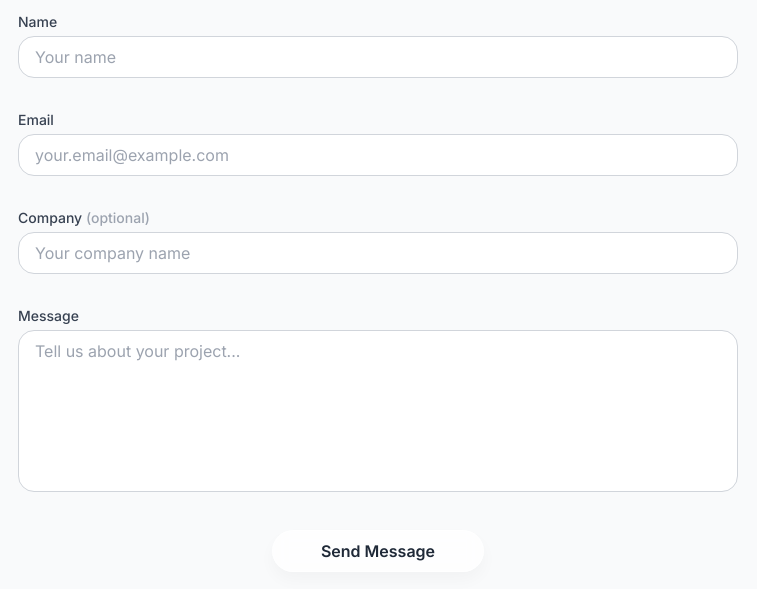
it: User Journey Tests › 7. Form Loading States › should show loading state during submission
In the field labelled "Name": (378, 57) left=18, top=36, right=738, bottom=78, type "John Doe"
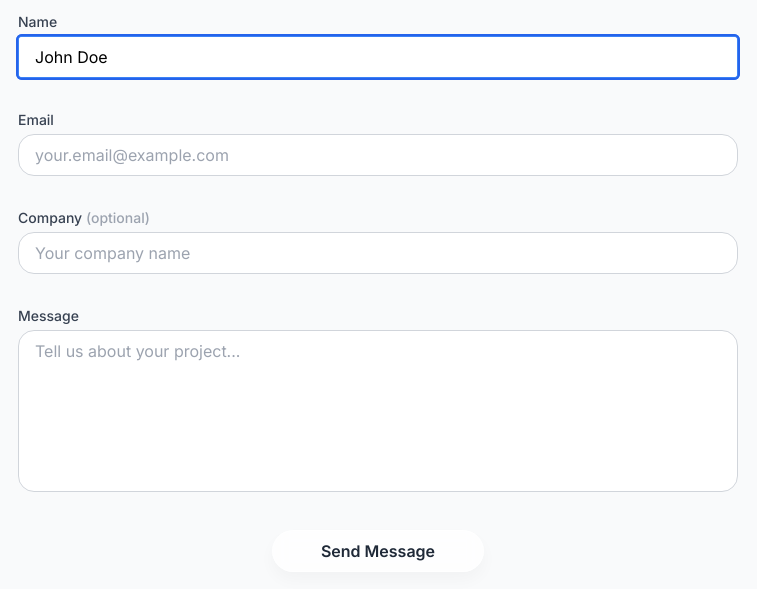
In the field labelled "Email": (378, 155) left=18, top=134, right=738, bottom=176, type "john@example.com"
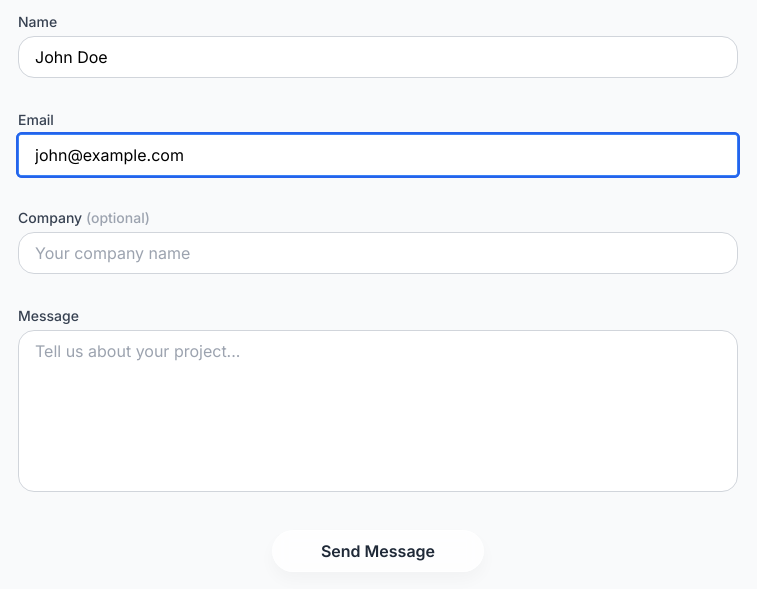
In the text box labelled "Message": (378, 411) left=18, top=330, right=738, bottom=492, type "This is a valid test message"
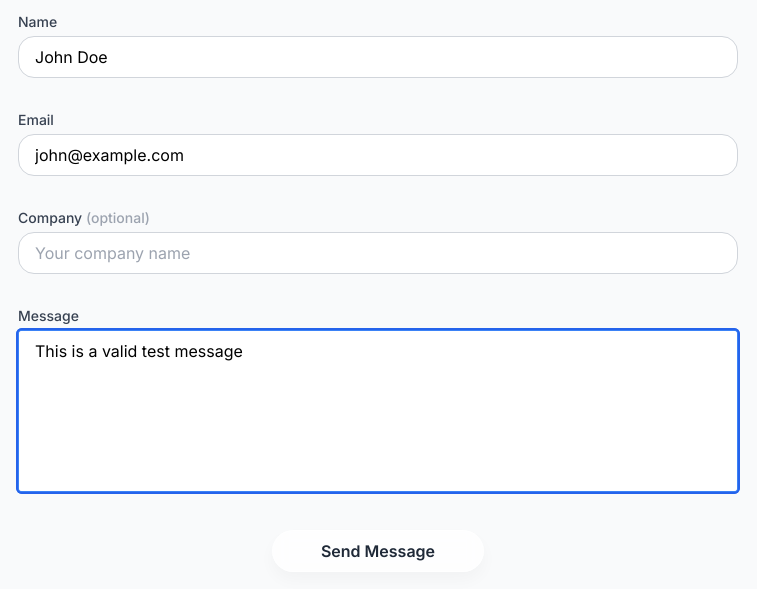
Click the button "Send Message": (378, 551) left=272, top=530, right=484, bottom=572
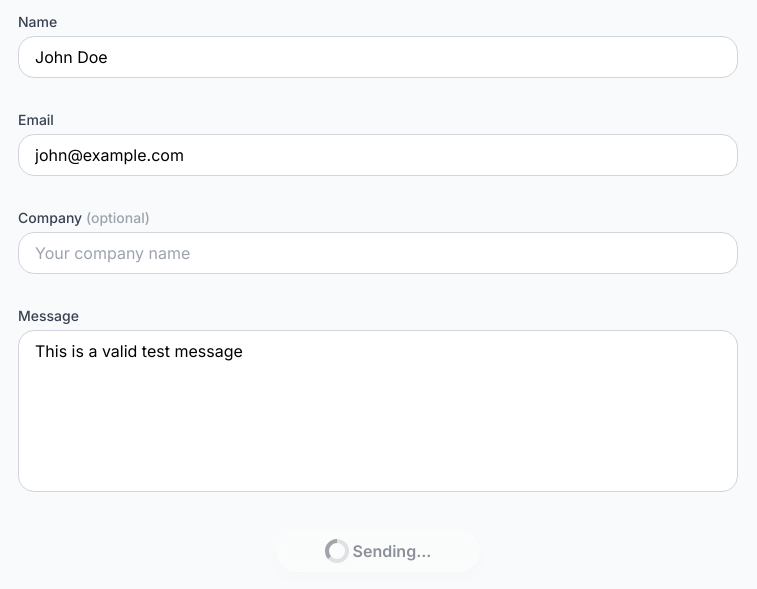
Expected: the text "Sending..." is shown, left=324, top=539, right=431, bottom=563
